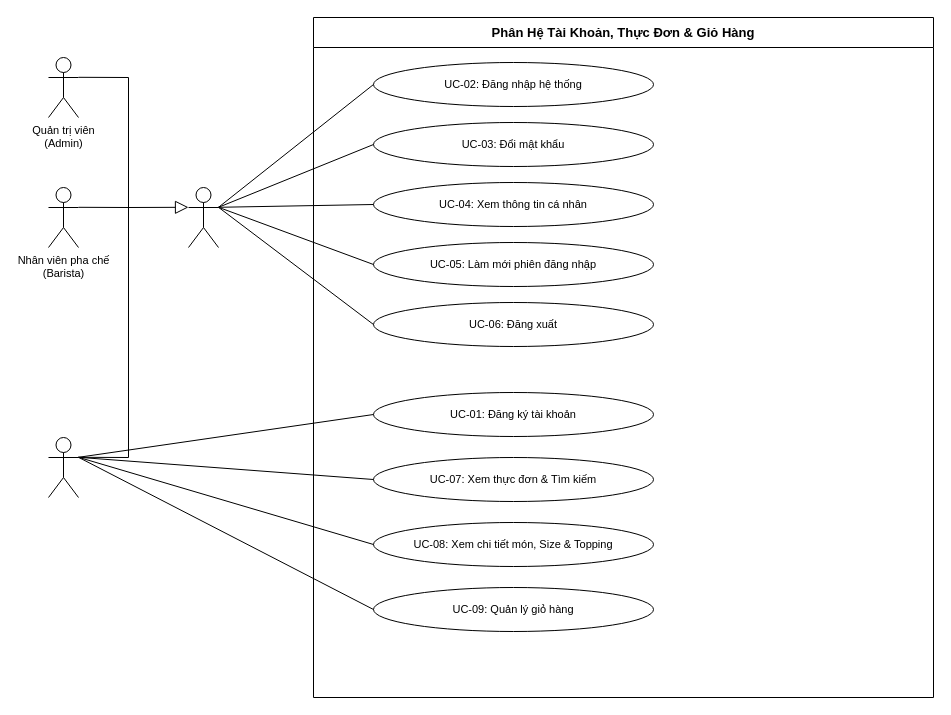
The diagram is 951 pixels wide and 715 high, and some of its shapes have lost their labels. The shapes that lost their labels are listed below. From the top down, each one's box as (x1, y1, x2, y2) in pixels, then its label:
(188, 186, 218, 248): «Abstract» Người dùng chung (User)
(48, 436, 78, 498): Khách hàng (Customer)
